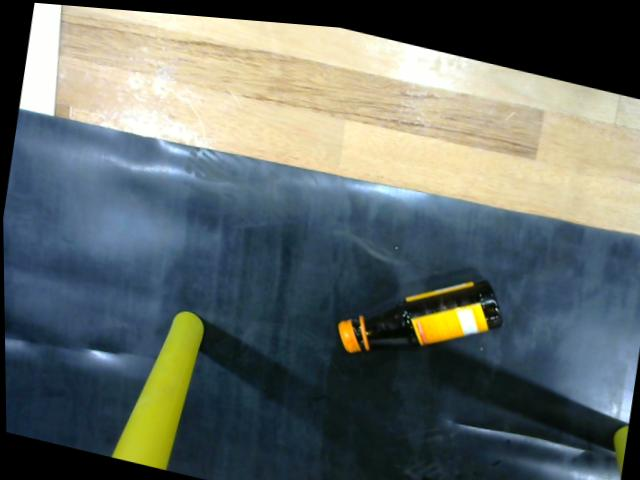glass: (335, 266, 508, 352)
